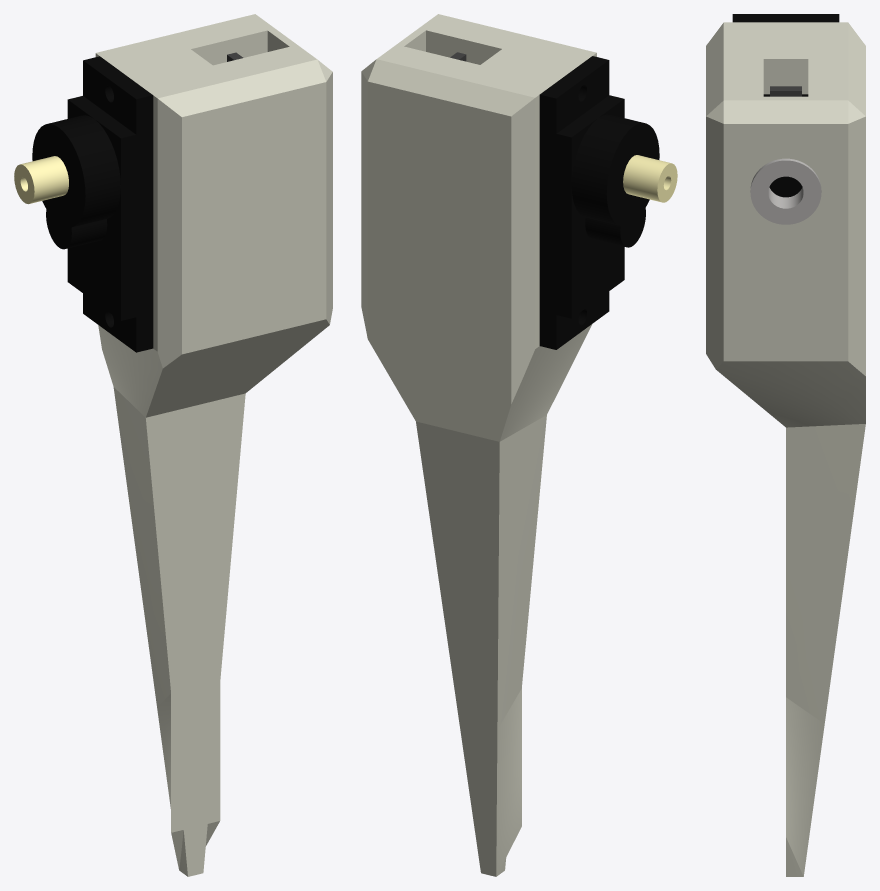
The model's file is tibia.obj.
3 renders of one model, left to right at view 1: azimuth 30°, elevation 25°; view 2: azimuth 150°, elevation 25°; view 3: azimuth 270°, elevation 25°, orthographic.
Parts seen in each view (by area): view 1: Solid1, Solid1:1; view 2: Solid1, Solid1:1; view 3: Solid1, Solid1:2, Solid1:1.
Boxes of the visible parts, box(x1,y1,x2,y2) form: Solid1: box(95, 14, 332, 876); Solid1:1: box(14, 52, 243, 352); Solid1: box(361, 14, 596, 876); Solid1:1: box(450, 52, 677, 349); Solid1: box(706, 22, 865, 876); Solid1:2: box(750, 158, 821, 224); Solid1:1: box(732, 14, 839, 197).
Size of the model in its own units: 36.6 by 102 by 18.
